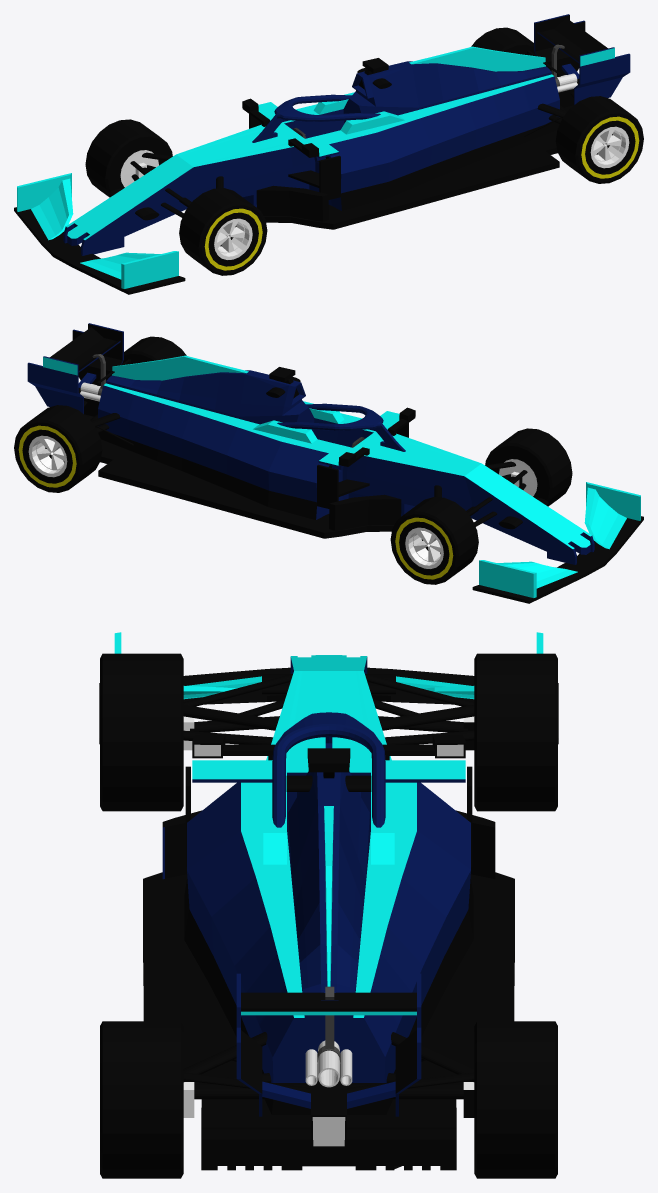
The model's file is F1 Cyan.fbx.
The picture shows the model from 3 angles, top to bottom: view 1: azimuth 30°, elevation 25°; view 2: azimuth 150°, elevation 25°; view 3: azimuth 270°, elevation 25°; orthographic projection. The views are drawn at different scales.
Parts seen in each view (by area): view 1: Cube.006, Cube.004, Cube.003, Cube.009; view 2: Cube.006, Cube.004, Cube.003, Cube.009; view 3: Cube.006, Cube.004, Cube.003, Cylinder.018, Cube.009, Cylinder.019.
Boxes of the visible parts, x1=… form: Cube.006: x1=14, y1=14, x2=630, y2=294; Cube.004: x1=85, y1=119, x2=267, y2=275; Cube.003: x1=471, y1=27, x2=643, y2=183; Cube.009: x1=249, y1=114, x2=340, y2=199; Cube.006: x1=27, y1=323, x2=643, y2=603; Cube.004: x1=390, y1=428, x2=572, y2=584; Cube.003: x1=14, y1=336, x2=186, y2=492; Cube.009: x1=317, y1=423, x2=408, y2=508; Cube.006: x1=99, y1=632, x2=558, y2=1170; Cube.004: x1=100, y1=653, x2=557, y2=811; Cube.003: x1=100, y1=1021, x2=557, y2=1178; Cylinder.018: x1=305, y1=1040, x2=352, y2=1087; Cube.009: x1=185, y1=766, x2=472, y2=867; Cylinder.019: x1=262, y1=674, x2=395, y2=694.
Size of the model in its own units: 1396 by 293 by 501.
